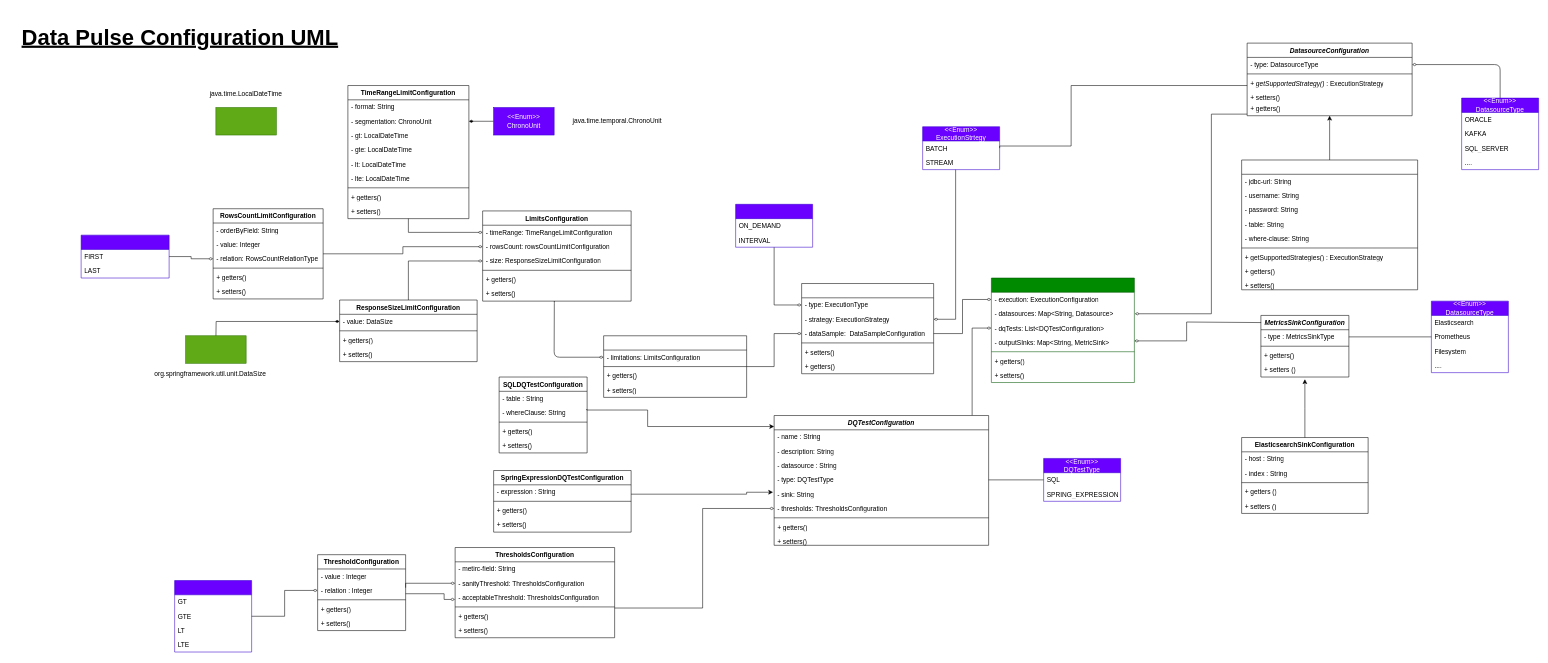
The diagram is 1548 pixels wide and 663 high, and some of its shapes have lost their labels. Each missing label, with the box of its shape:
<<Enum> ThresholdRelation: (174, 580, 252, 652)
<<Enum>> ExecutionType: (735, 204, 813, 247)
<<Enum>> RowsCountRelationType: (81, 235, 169, 278)
DataPulseConfiguration: (991, 277, 1134, 383)
DataSampleConfiguration: (603, 335, 747, 397)
DataSize: (185, 335, 246, 363)
ExecutionConfiguration: (801, 283, 934, 374)
LocalDateTime: (215, 107, 276, 135)
OracleDatasourceConfiguration: (1241, 159, 1418, 290)
